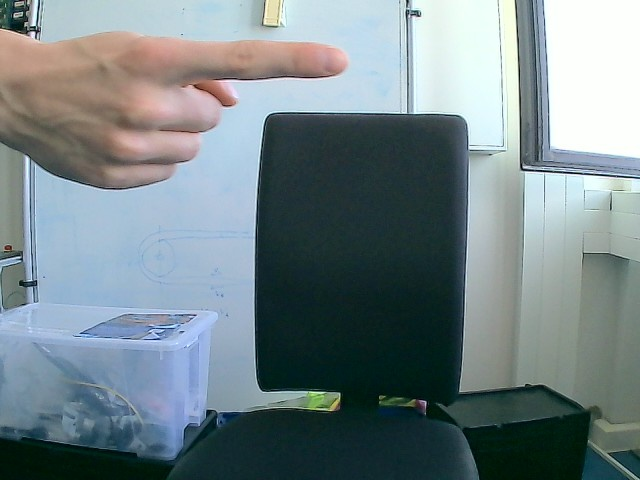left: (1, 27, 349, 191)
